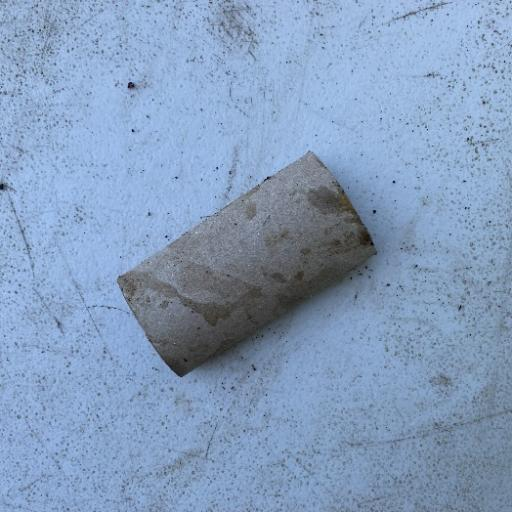Cardboard: (114, 149, 378, 378)
